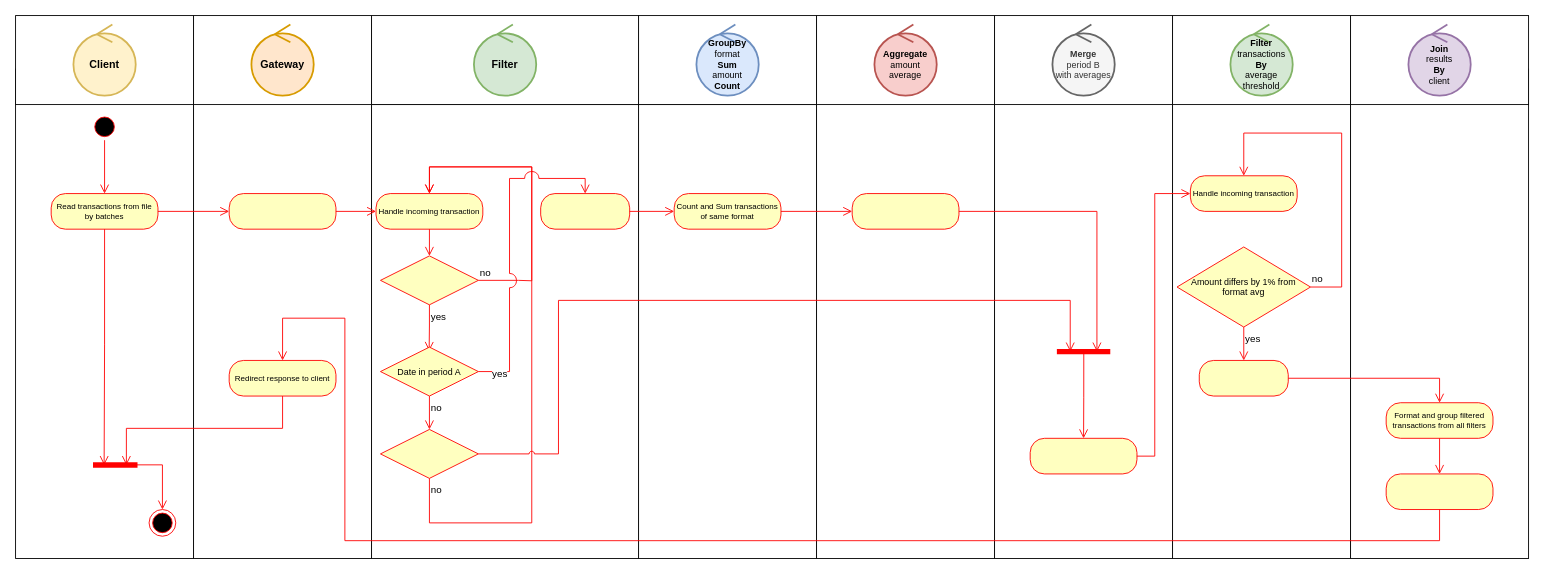
The diagram is 1544 pixels wide and 574 high, and some of its shapes have lost their labels. Each missing label, with the box of its shape:
Add format average to period B transactions: (1029, 437, 1137, 474)
Calculate average for each format: (851, 193, 959, 229)
Currency == USD: (380, 255, 478, 305)
Date in period B: (380, 429, 478, 478)
Hash by client: (1198, 360, 1288, 396)
Hash by format: (540, 193, 630, 229)
Redirect transaction batch to filters: (228, 193, 336, 229)
Send transactions to gateway: (1385, 473, 1493, 510)
